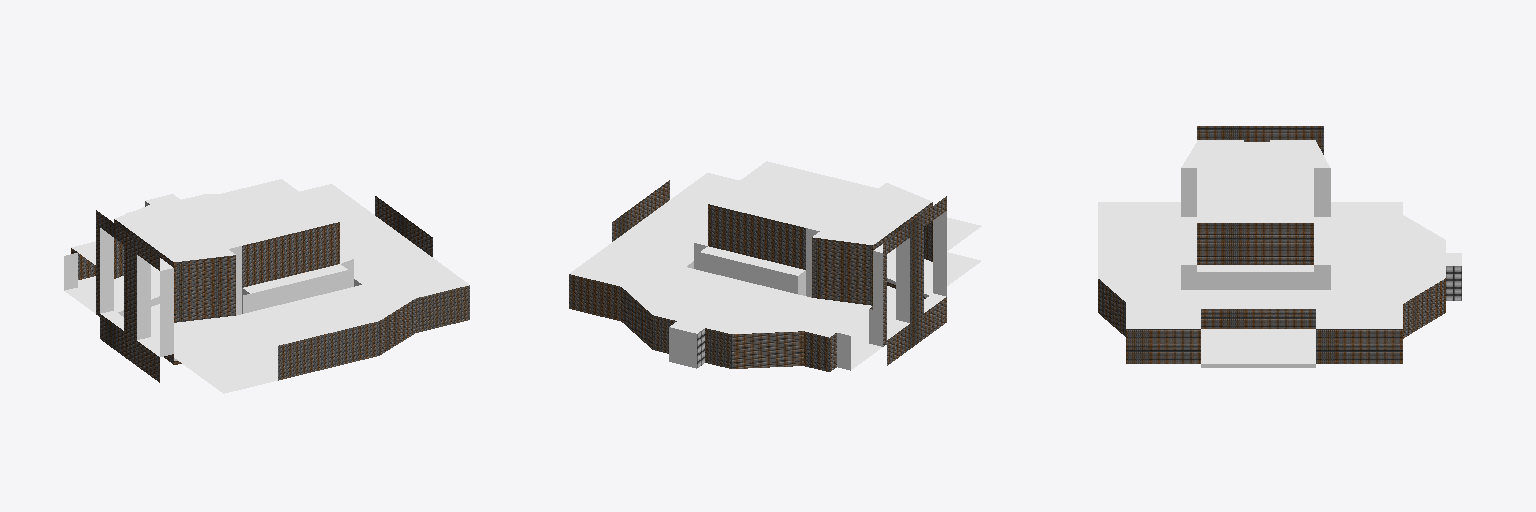
3 views of the same model, side by side, from view 1: azimuth 30°, elevation 25°; view 2: azimuth 150°, elevation 25°; view 3: azimuth 270°, elevation 25° (orthographic).
Parts seen in each view (by area): view 1: l1_geo02; view 2: l1_geo02; view 3: l1_geo02.
Part boxes in pixels (bbox=[...]): l1_geo02: bbox=[64, 179, 469, 393]; l1_geo02: bbox=[569, 161, 981, 371]; l1_geo02: bbox=[1098, 126, 1461, 367].
Bounding box in the file's own units: 39.25 × 17.25 × 45.
15 materials, 3 textured.